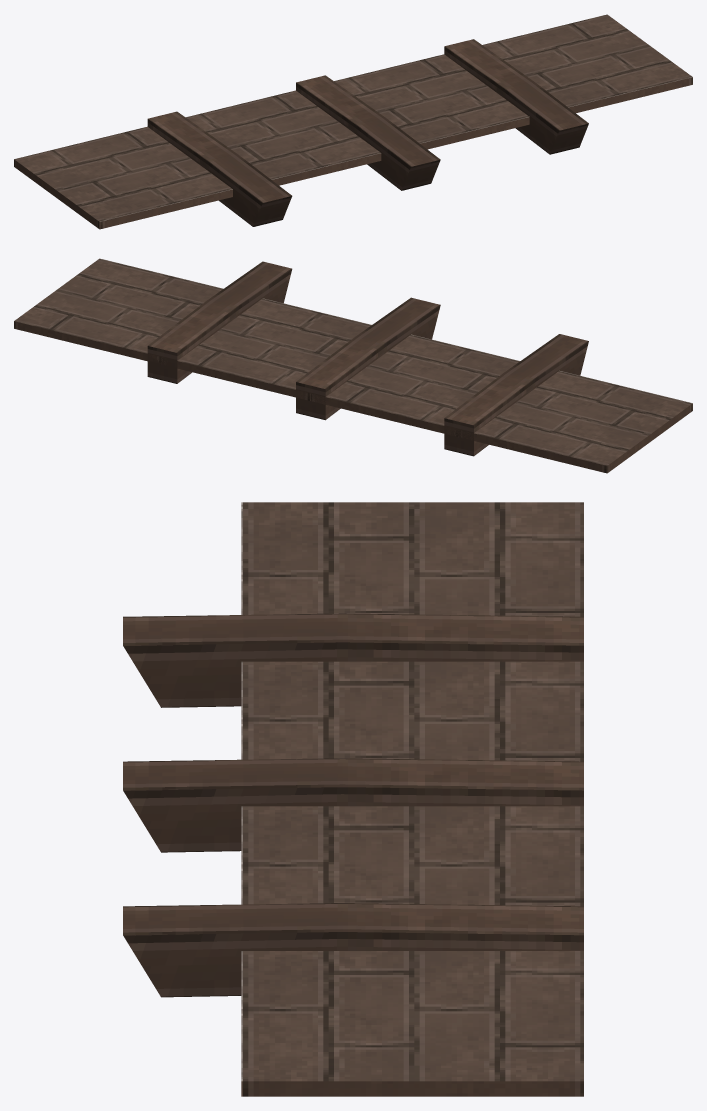
Rendered from overhang_large.glb.
3 views of the same model, one above another, from view 1: azimuth 30°, elevation 25°; view 2: azimuth 150°, elevation 25°; view 3: azimuth 270°, elevation 25° (orthographic). The views are drawn at different scales.
Parts seen in each view (by area): view 1: overhang_large; view 2: overhang_large; view 3: overhang_large.
Part boxes in pixels (box(x1,y1,x2,y2)): overhang_large: box(14, 14, 692, 229); overhang_large: box(14, 258, 692, 473); overhang_large: box(123, 502, 583, 1096).
Size of the model in its own units: 4 by 0.2108 by 1.35.
1 material, 1 textured.
